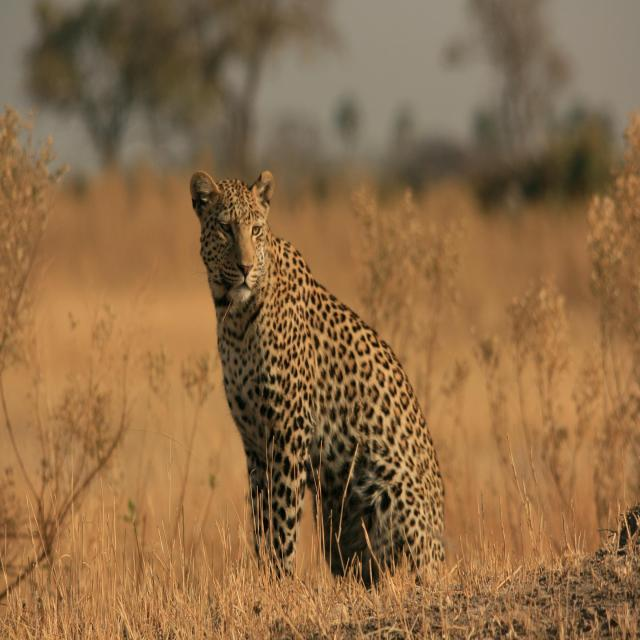Leopard: (195, 154, 448, 598)
